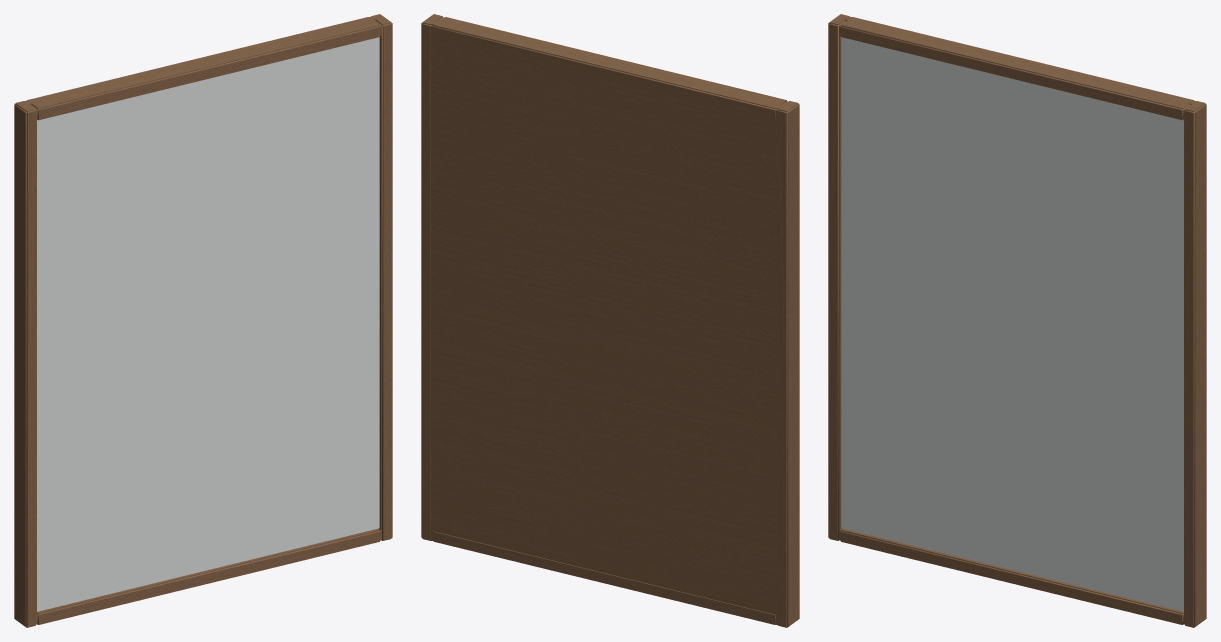
File: traditional.mirror.gltf
The picture shows the model from 3 angles, left to right: view 1: azimuth 30°, elevation 25°; view 2: azimuth 150°, elevation 25°; view 3: azimuth 330°, elevation 25°; orthographic projection.
Parts seen in each view (by area): view 1: traditional.mirror.backing; view 2: traditional.mirror.backing; view 3: traditional.mirror.backing.
Boxes of the visible parts, x1,y1,x2,y2 form: traditional.mirror.backing: [14, 14, 392, 627]; traditional.mirror.backing: [421, 14, 799, 627]; traditional.mirror.backing: [828, 14, 1206, 627].
Size of the model in its own units: 0.58 by 0.78 by 0.035.
3 materials, 1 textured.
